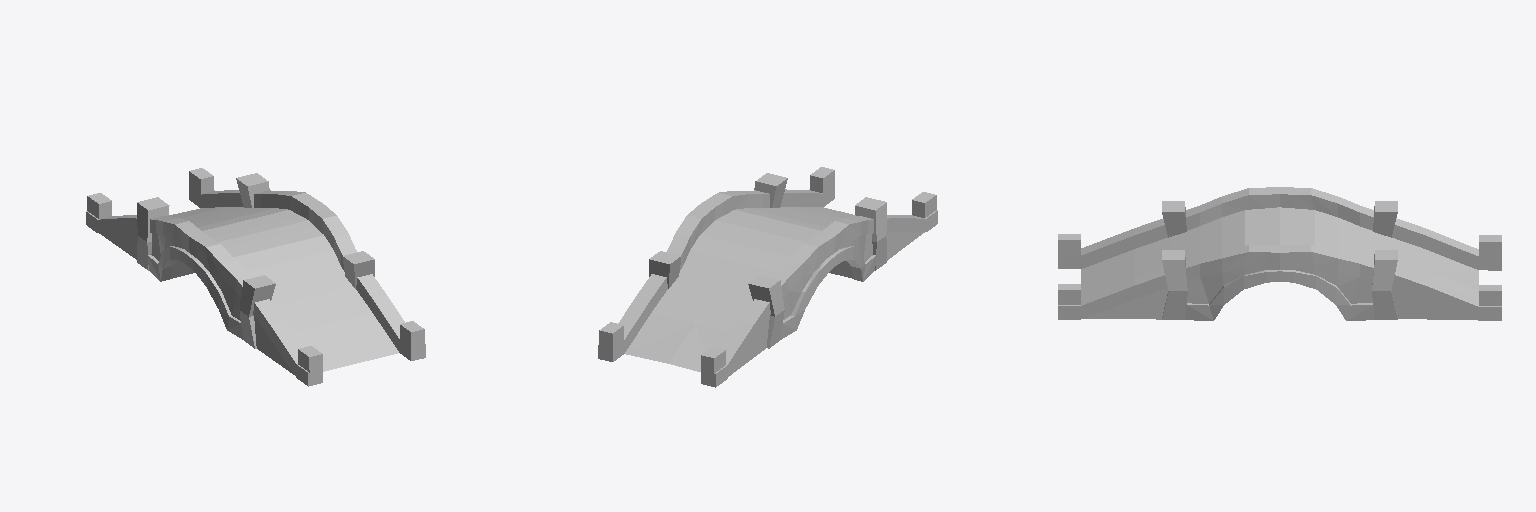
The model's file is bridge.obj.
3 renders of one model, left to right at view 1: azimuth 30°, elevation 25°; view 2: azimuth 150°, elevation 25°; view 3: azimuth 270°, elevation 25°, orthographic.
Parts seen in each view (by area): view 1: bridge; view 2: bridge; view 3: bridge.
Part boxes in pixels (x1,y1,x2,y2): bridge: (86,168,425,386); bridge: (598,167,937,387); bridge: (1058,187,1501,320).
Size of the model in its own units: 9.64 by 4.79 by 26.75.